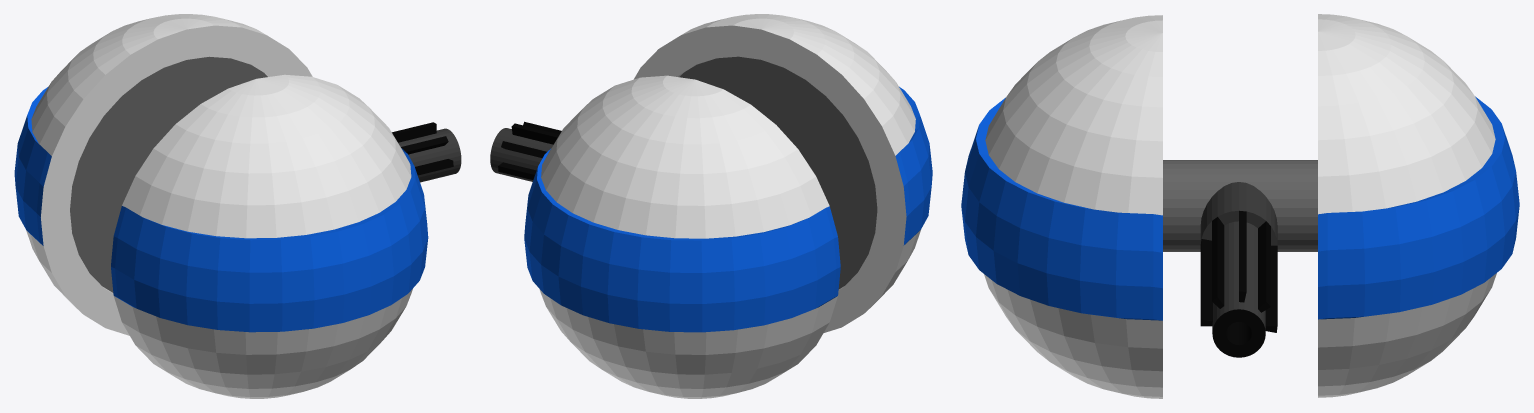
File: Torre Baixa A.fbx
3 views of the same model, side by side, from view 1: azimuth 30°, elevation 25°; view 2: azimuth 150°, elevation 25°; view 3: azimuth 270°, elevation 25° (orthographic). The views are drawn at different scales.
Parts seen in each view (by area): view 1: Corpo; view 2: Corpo; view 3: Corpo.
Part boxes in pixels (bbox=[...]): Corpo: bbox=[14, 14, 461, 398]; Corpo: bbox=[490, 14, 932, 398]; Corpo: bbox=[961, 14, 1519, 398].
Size of the model in its own units: 257 by 200 by 291.
